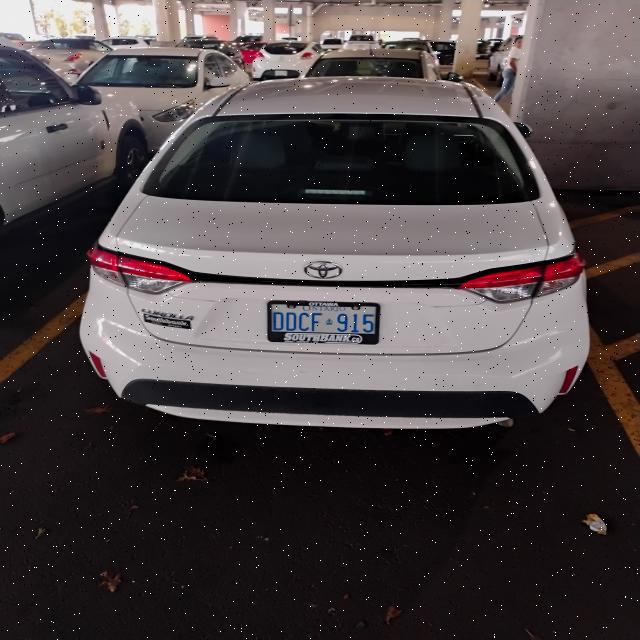plaque: (268, 301, 379, 344), (275, 70, 287, 76)
